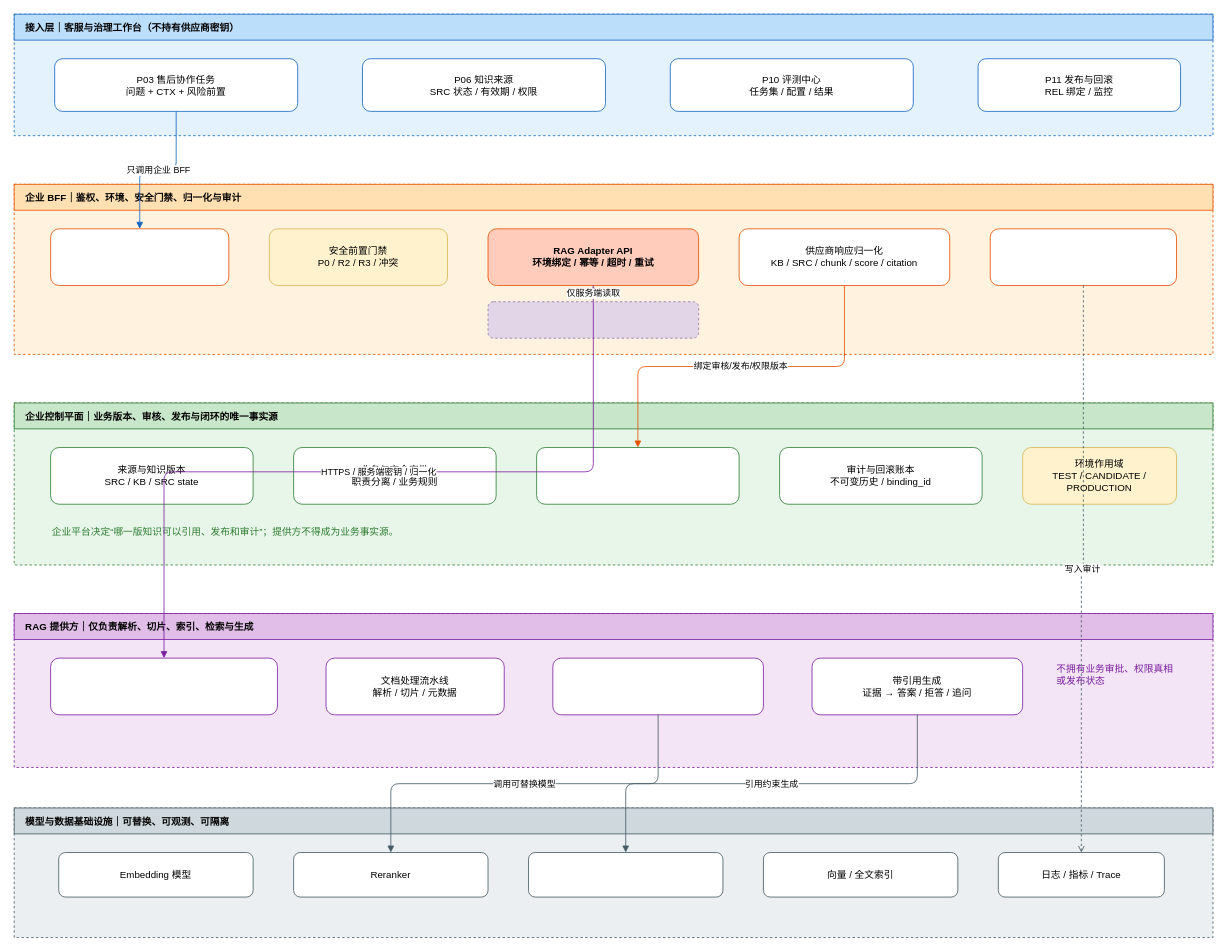
The diagram is 1227 pixels wide and 952 high, and some of its shapes have lost their labels. Each missing label, with the centre of its shape:
候选提供方 FastGPT / Dify / RAGFlow: (x=163, y=686)
审计与凭证代理 request_id / provider_request_id: (x=1083, y=257)
服务端密钥库 RAG_API_KEY 不入前端/Git: (x=593, y=319)
生成模型: (x=625, y=874)
索引与检索 语义 / 混合 / Rerank / TopK: (x=657, y=686)
评测任务与发布版本 EVAL / REL / CASE: (x=637, y=475)
身份与权限 租户 / 角色 / 业务域: (x=139, y=257)
